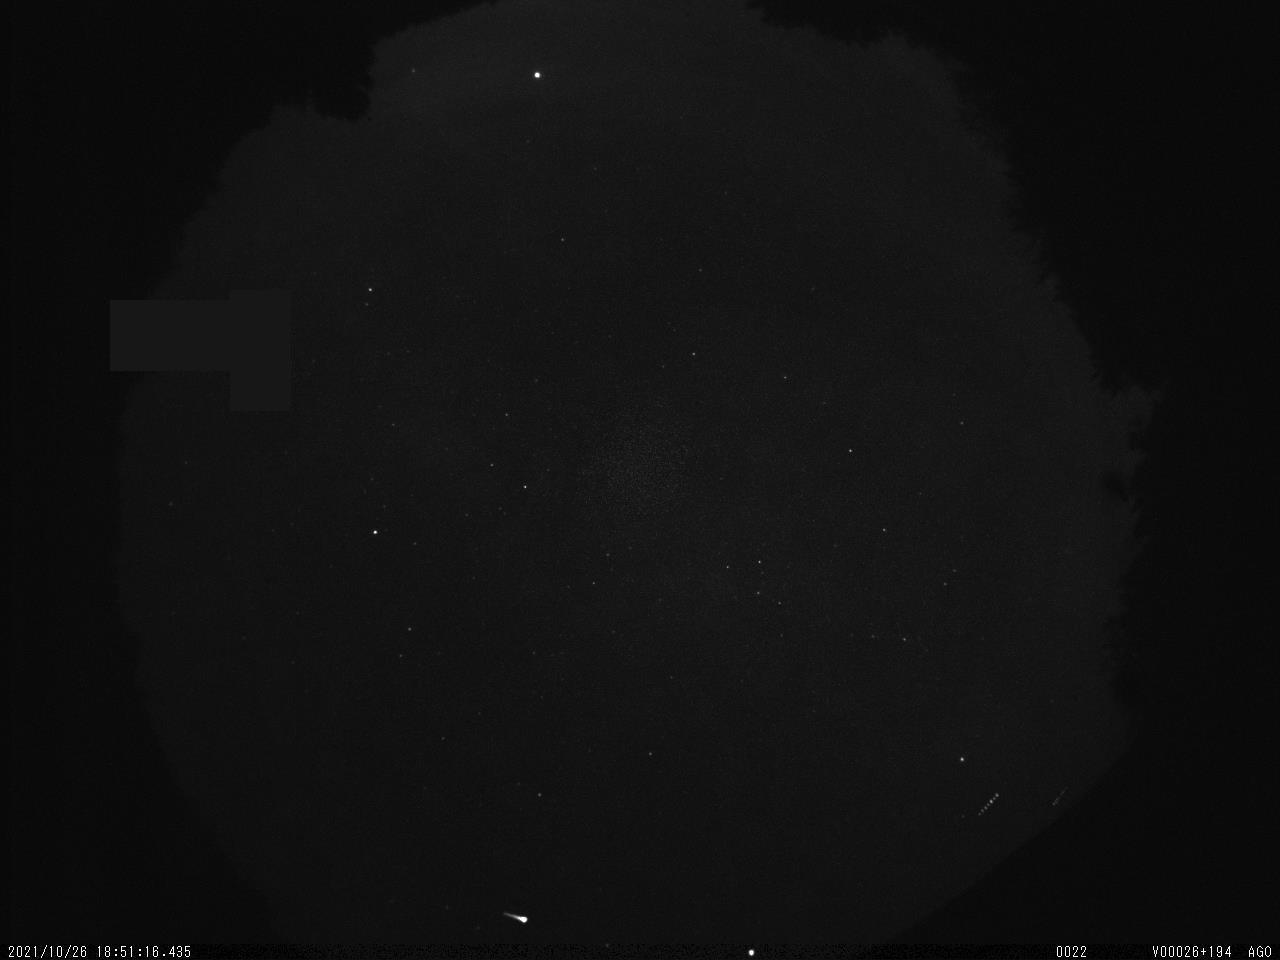meteor: (496, 904, 548, 936)
